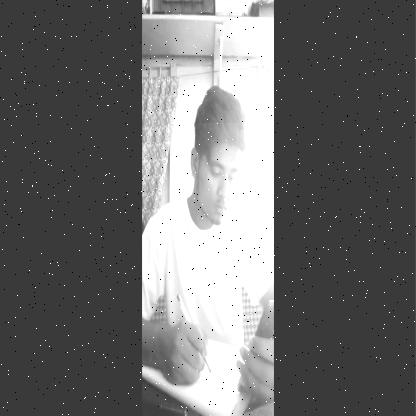Distracted: (197, 123, 239, 234)
